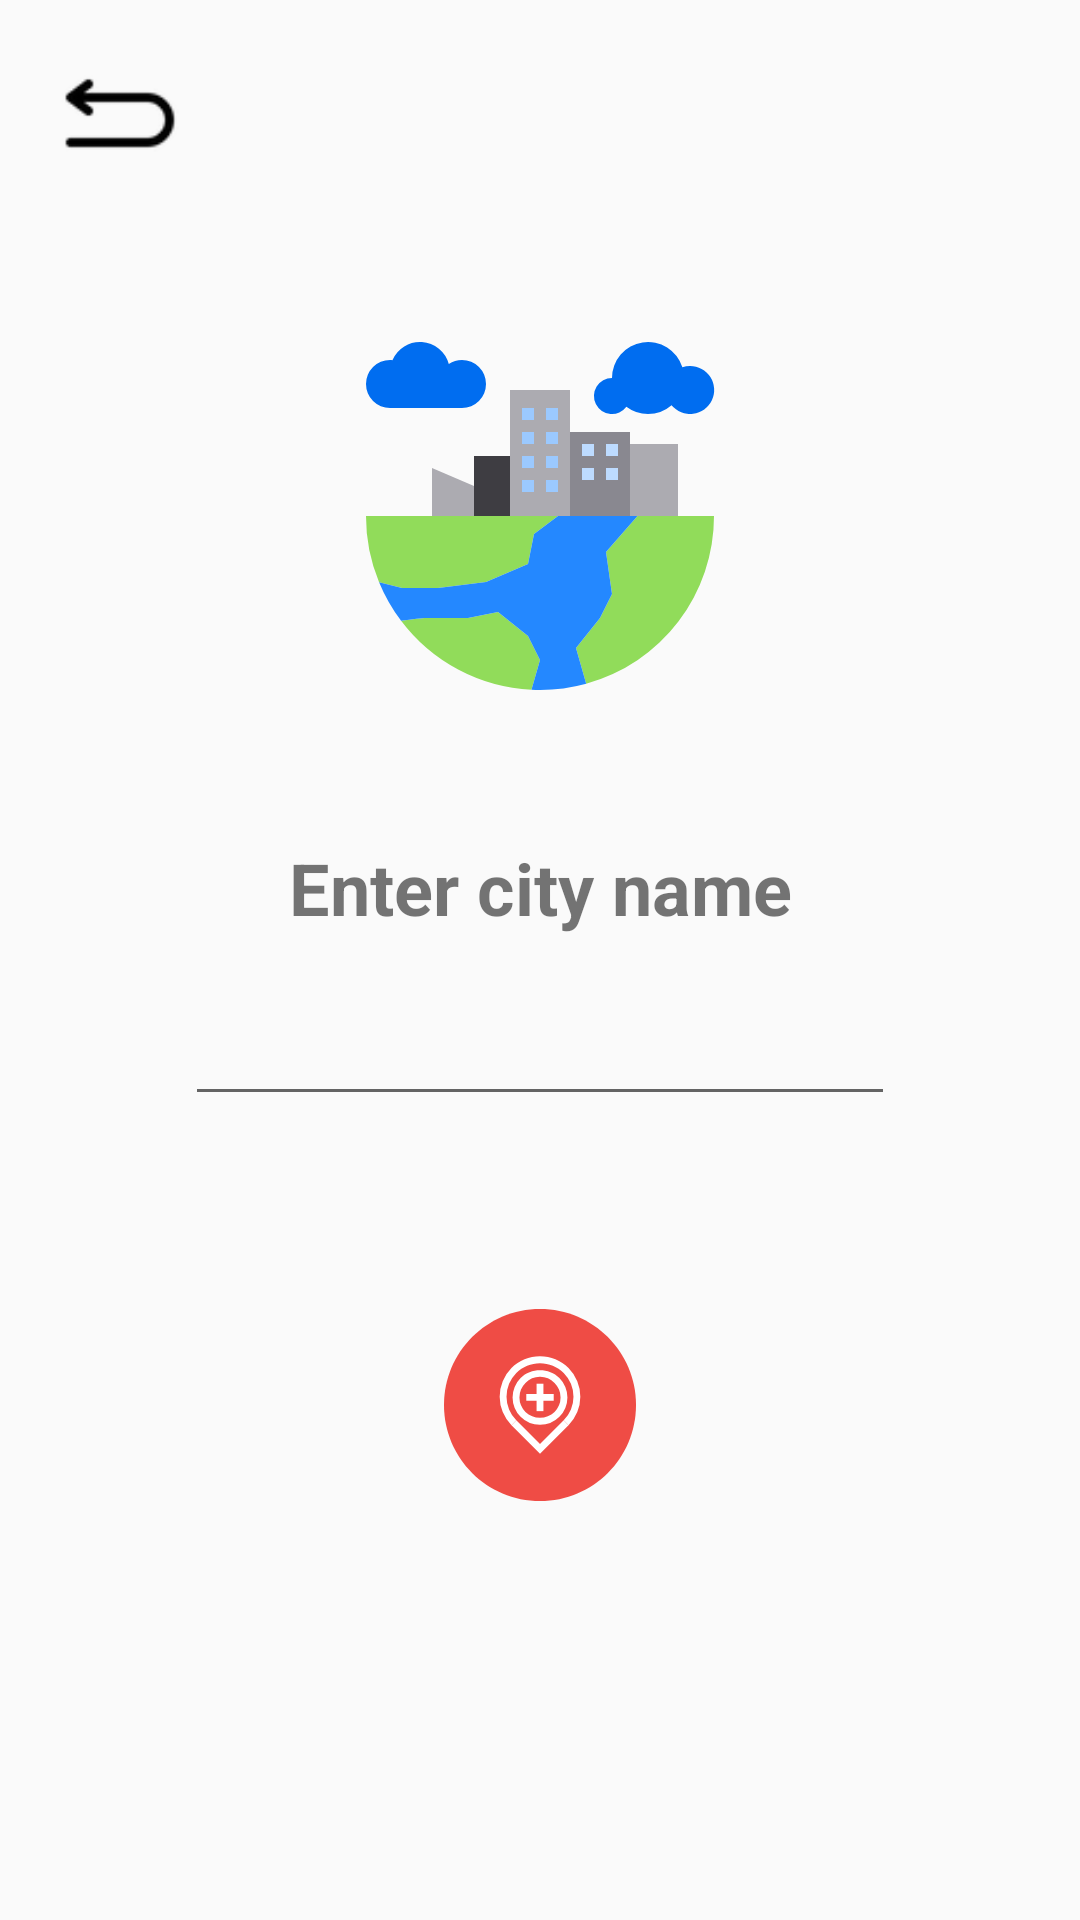

Icons on this 1080 x 1920 Android screen, each with its box as (x1, y1, x2, y2):
add location: (444, 1309, 636, 1501)
back: (65, 79, 175, 148)
